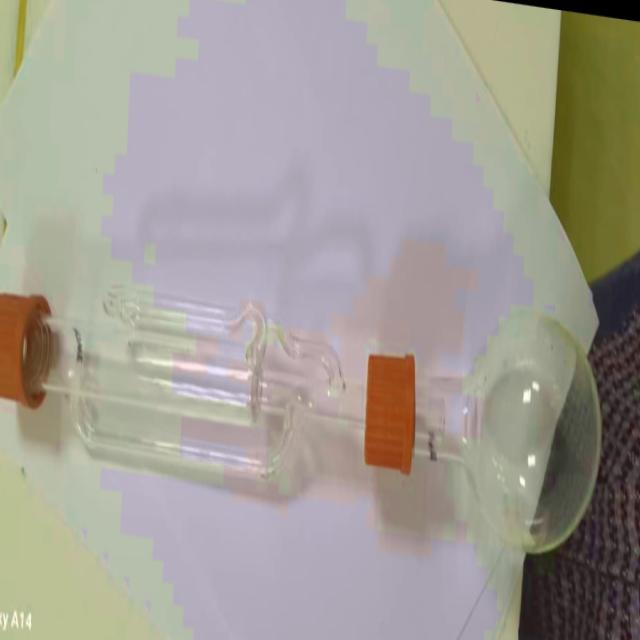Soxhlet: (0, 226, 606, 589)
